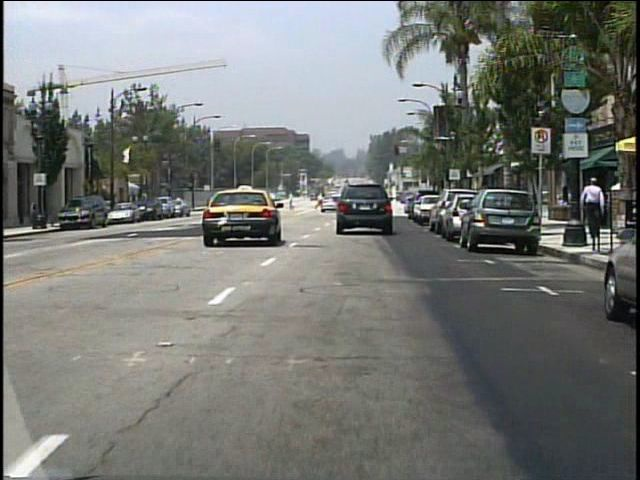person: (581, 176, 606, 236), (287, 192, 299, 213), (315, 192, 327, 212)
